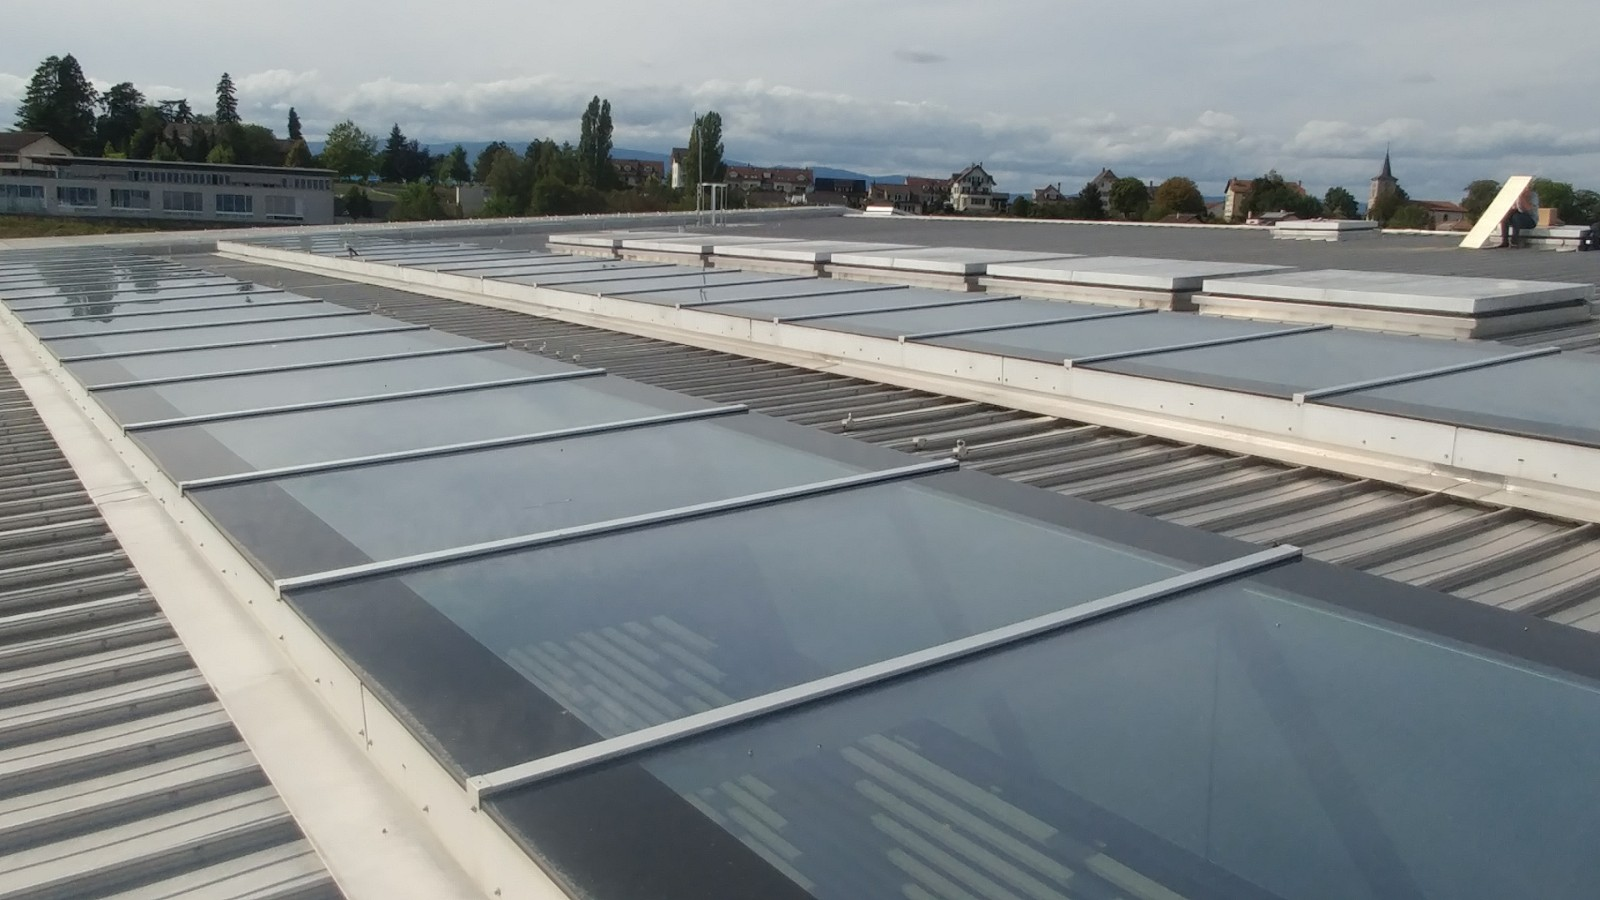Pigeon: (341, 238, 362, 262)
